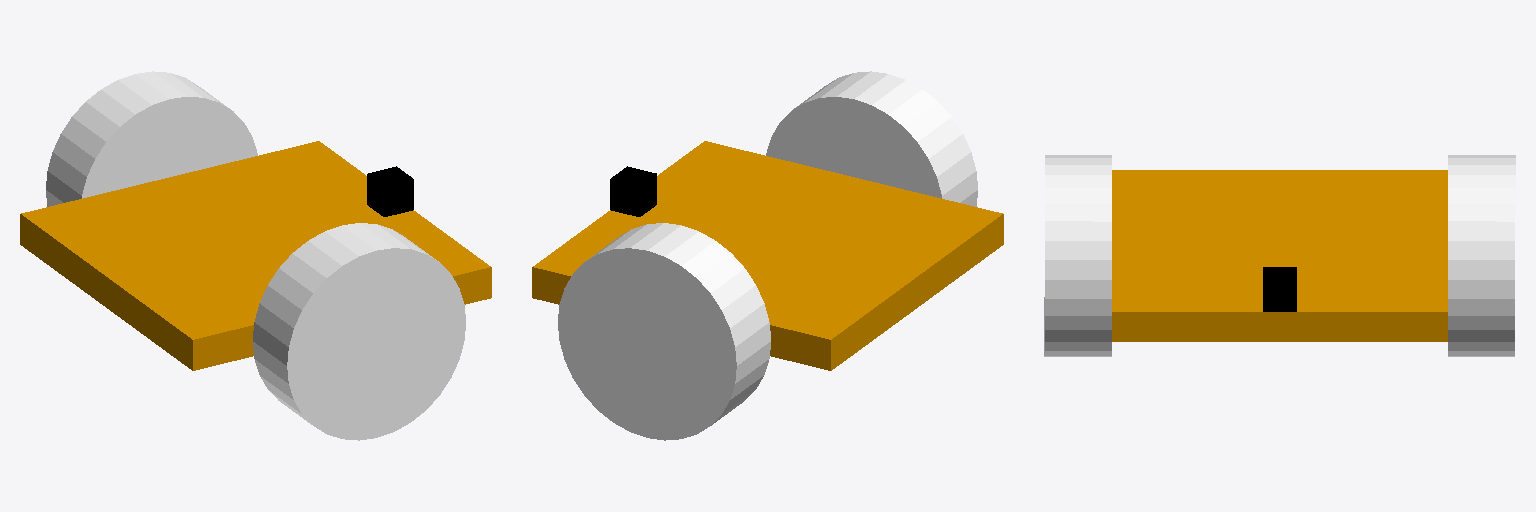
The robot description file, URDF, robot "confbot":
<?xml version="1.0" ?>
<robot name="confbot" xmlns:xacro="http://www.ros.org/wiki/xacro">
  <material name="black">
    <color rgba="0.0 0.0 0.0 1.0"/>
  </material>
  <material name="red">
    <color rgba="0.8 0.0 0.0 1.0"/>
  </material>
  <material name="white">
    <color rgba="1.0 1.0 1.0 1.0"/>
  </material>

  <link name="base_link">
    <visual>
      <origin rpy="0 0 0" xyz="0 0 0"/>
      <geometry>
        <mesh filename="package://confbot_description/meshes/confbot.dae"/>
      </geometry>
    </visual>
  </link>
  <joint name="laser_frame" type="fixed">
    <origin rpy="0 0 -1.57" xyz="0.45 0.0 0.1"/>
    <parent link="base_link"/>
    <child link="laser_link"/>
  </joint>
  <link name="laser_link">
    <visual>
      <origin rpy="0 0 0" xyz="0 0 0"/>
      <geometry>
        <box size="0.1 0.1 0.1"/>
      </geometry>
      <material name="black"/>
    </visual>
  </link>
  <joint name="wheel_l_frame" type="fixed">
    <origin rpy="0 0 0" xyz="0 0.6 0.0"/>
    <parent link="base_link"/>
    <child link="wheel_l_link"/>
  </joint>
  <link name="wheel_l_link">
    <visual>
      <origin rpy="1.57 0 0" xyz="0 0 0"/>
      <geometry>
        <cylinder radius="0.3" length="0.2"/>
      </geometry>
      <material name="white"/>
    </visual>
  </link>
  <joint name="wheel_r_frame" type="fixed">
    <origin rpy="0 0 0" xyz="0 -0.6 0.0"/>
    <parent link="base_link"/>
    <child link="wheel_r_link"/>
  </joint>
  <link name="wheel_r_link">
    <visual>
      <origin rpy="1.57 0 0" xyz="0 0 0"/>
      <geometry>
        <cylinder radius="0.3" length="0.2"/>
      </geometry>
      <material name="white"/>
    </visual>
  </link>
</robot>

--- Facts derived from the render (not from the file) ---
Views: 3 orthographic renders of the robot side by side, from view 1: azimuth 30°, elevation 25°; view 2: azimuth 150°, elevation 25°; view 3: azimuth 270°, elevation 25°.
Robot: confbot — 4 links, 3 joints (3 fixed); root link base_link; default pose: all joints at 0.
Links seen in each view (by area): view 1: base_link, wheel_r_link, wheel_l_link, laser_link; view 2: base_link, wheel_l_link, wheel_r_link, laser_link; view 3: base_link, wheel_l_link, wheel_r_link, laser_link.
Boxes of the visible links, x1,y1,x2,y2 form: base_link: (20, 141, 491, 370); wheel_r_link: (253, 223, 465, 440); wheel_l_link: (46, 71, 257, 206); laser_link: (367, 166, 413, 216); base_link: (532, 141, 1003, 370); wheel_l_link: (558, 223, 770, 440); wheel_r_link: (766, 71, 977, 206); laser_link: (610, 166, 656, 216); base_link: (1112, 170, 1447, 341); wheel_l_link: (1448, 155, 1515, 356); wheel_r_link: (1044, 155, 1111, 356); laser_link: (1263, 267, 1296, 311).
Size in the robot's own frame: 1 by 1.4 by 0.6002 metres.
Meshes: 1 distinct files referenced, 1 mesh visuals loaded (1 Collada DAE).